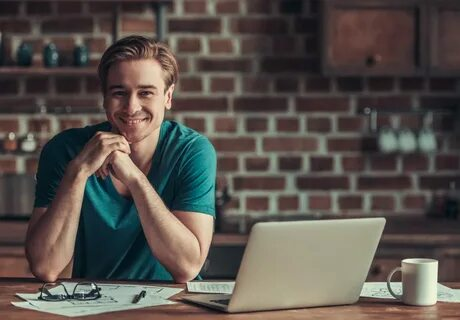awake: (23, 33, 218, 284)
